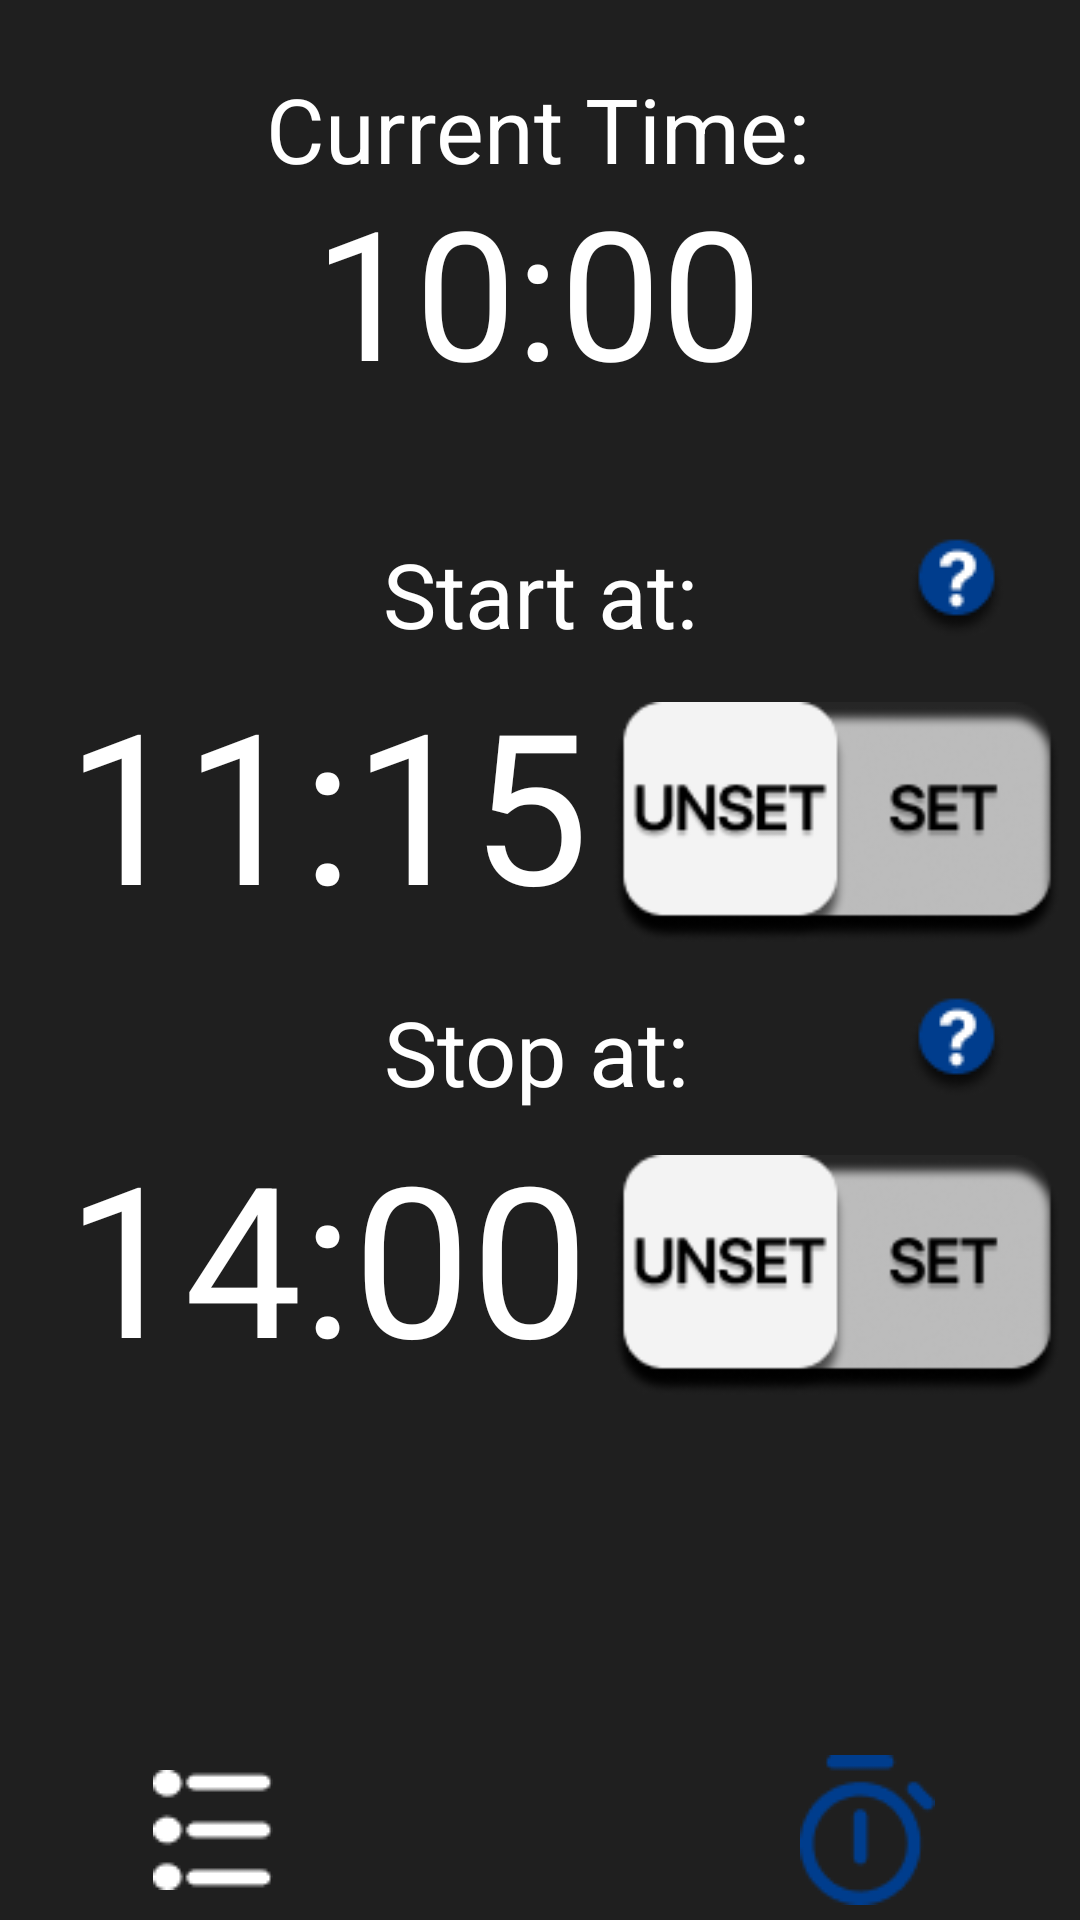

Screen size 1080*1920. Icon name, then its center in pixels as [x,y]:
info: [956,577], [956,1036]
timer: [867,1830]
